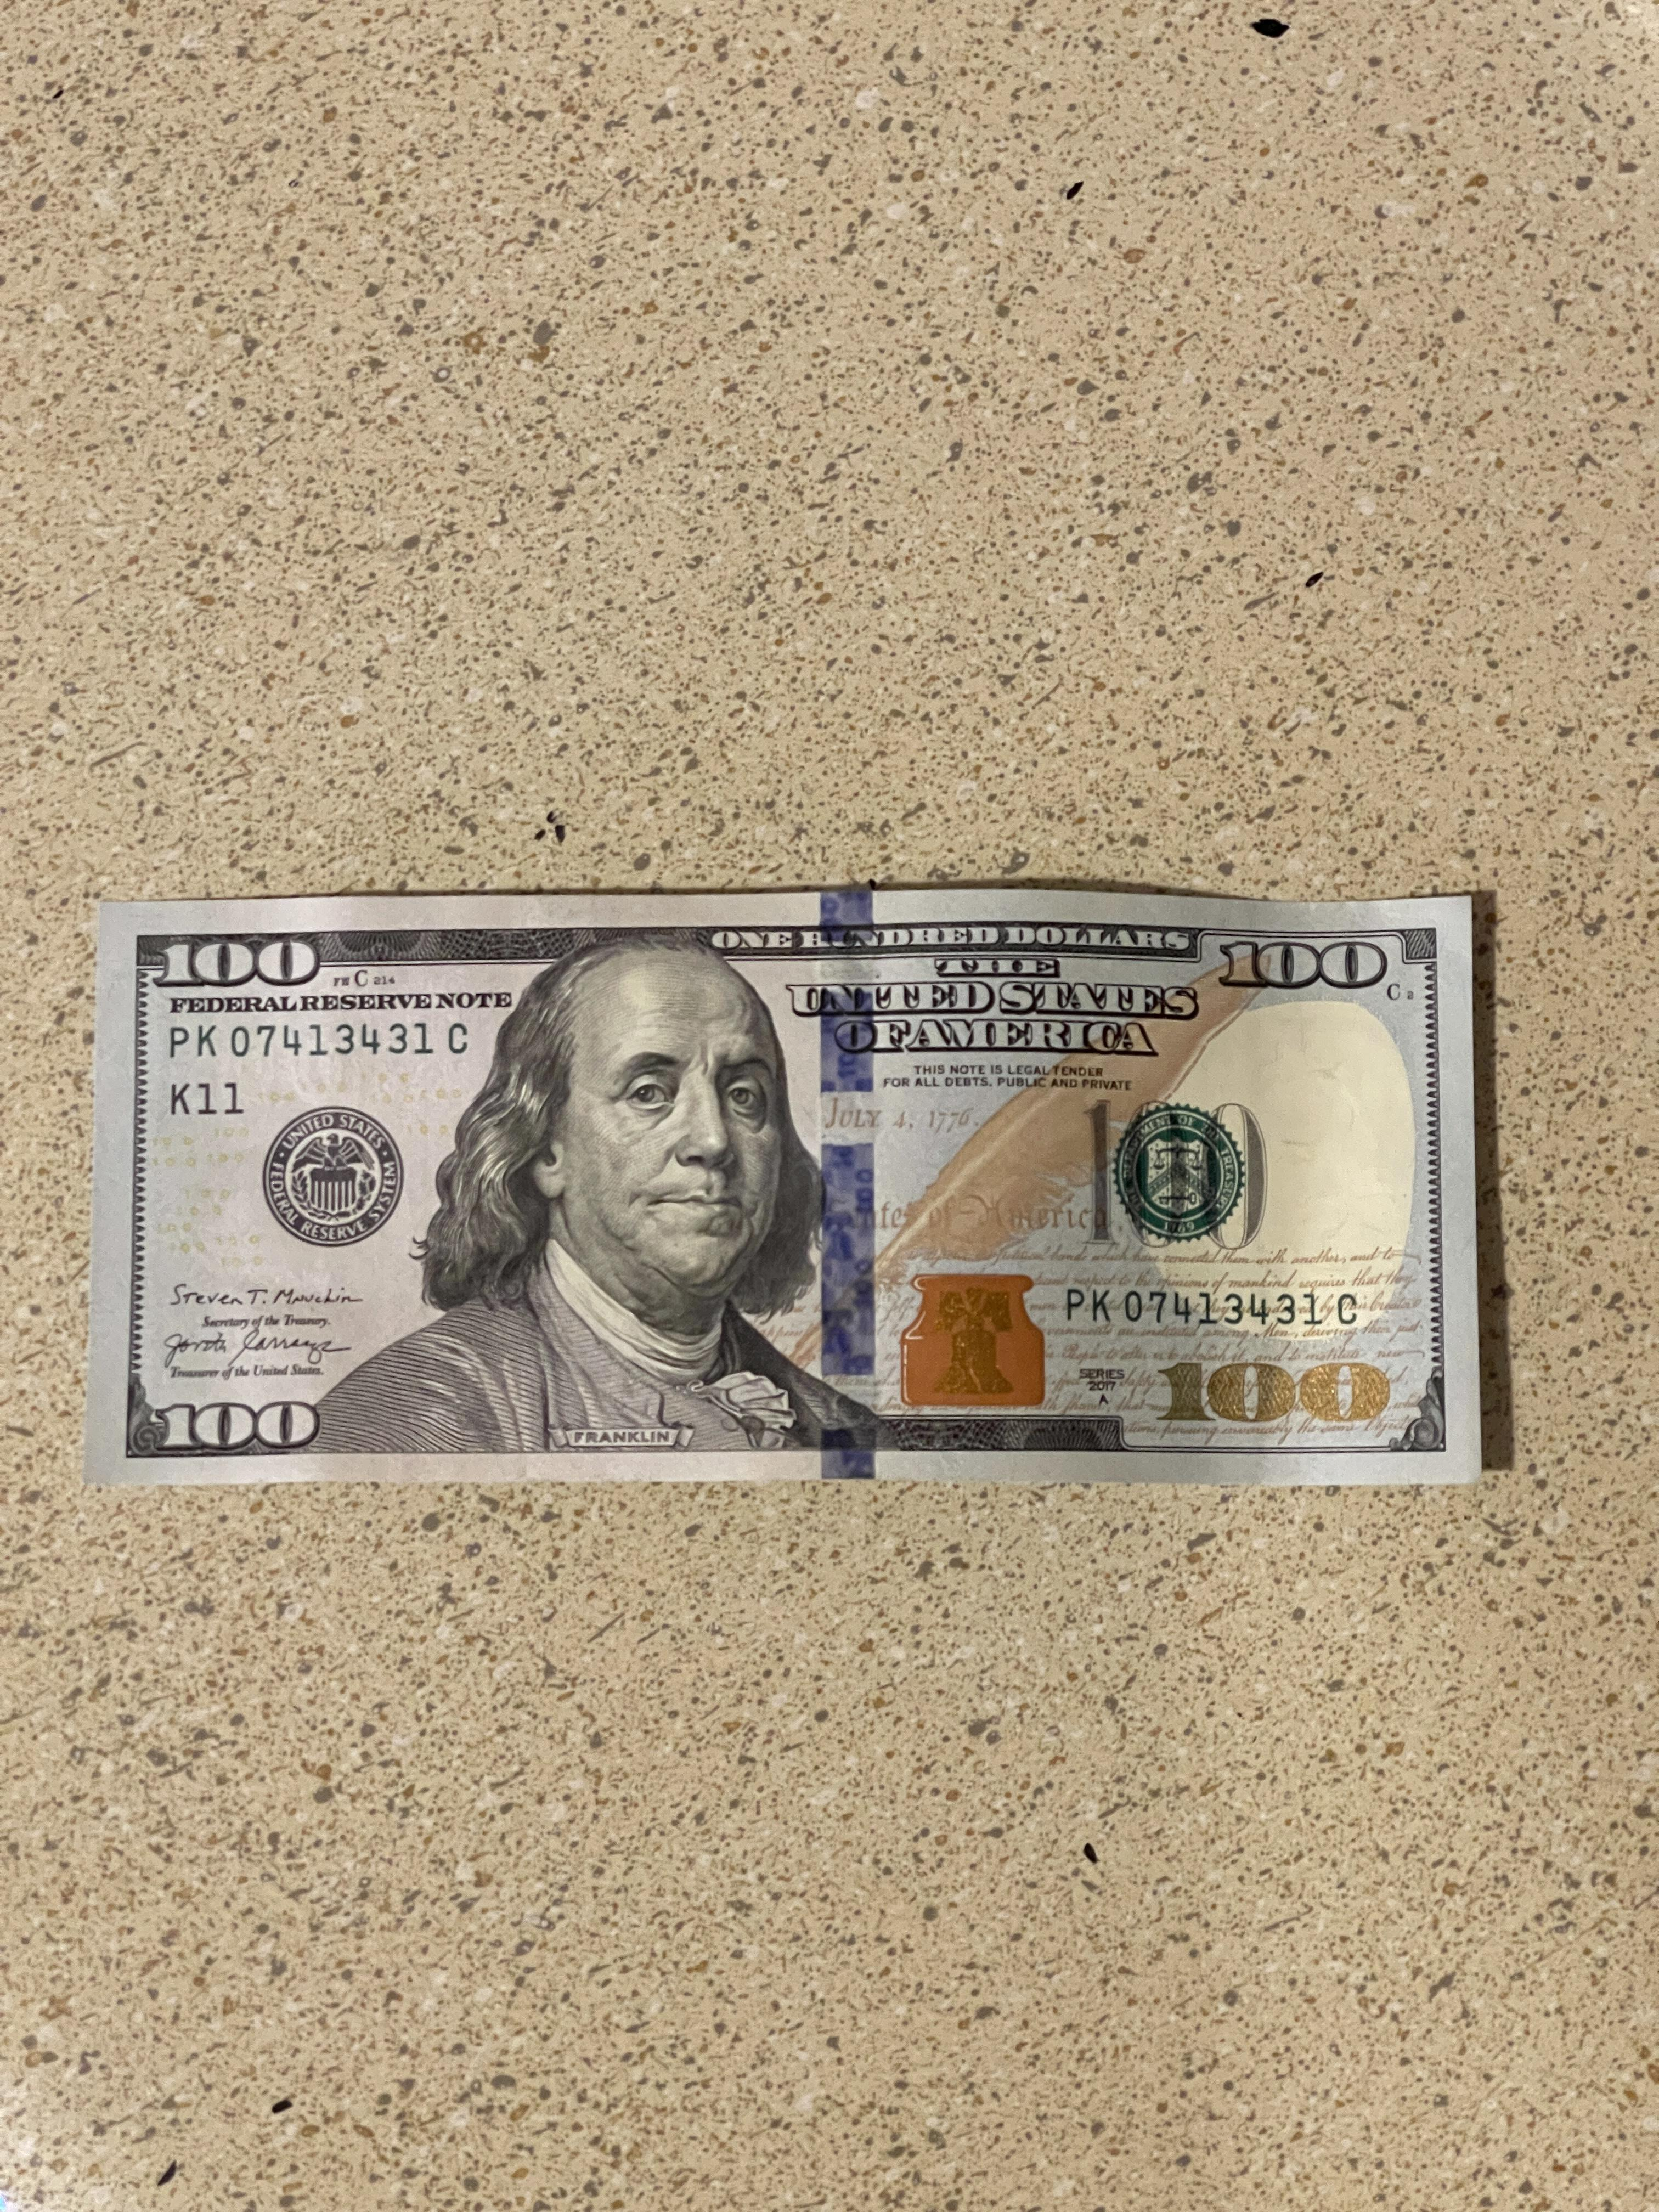HundredBill: (82, 887, 1486, 1486)
